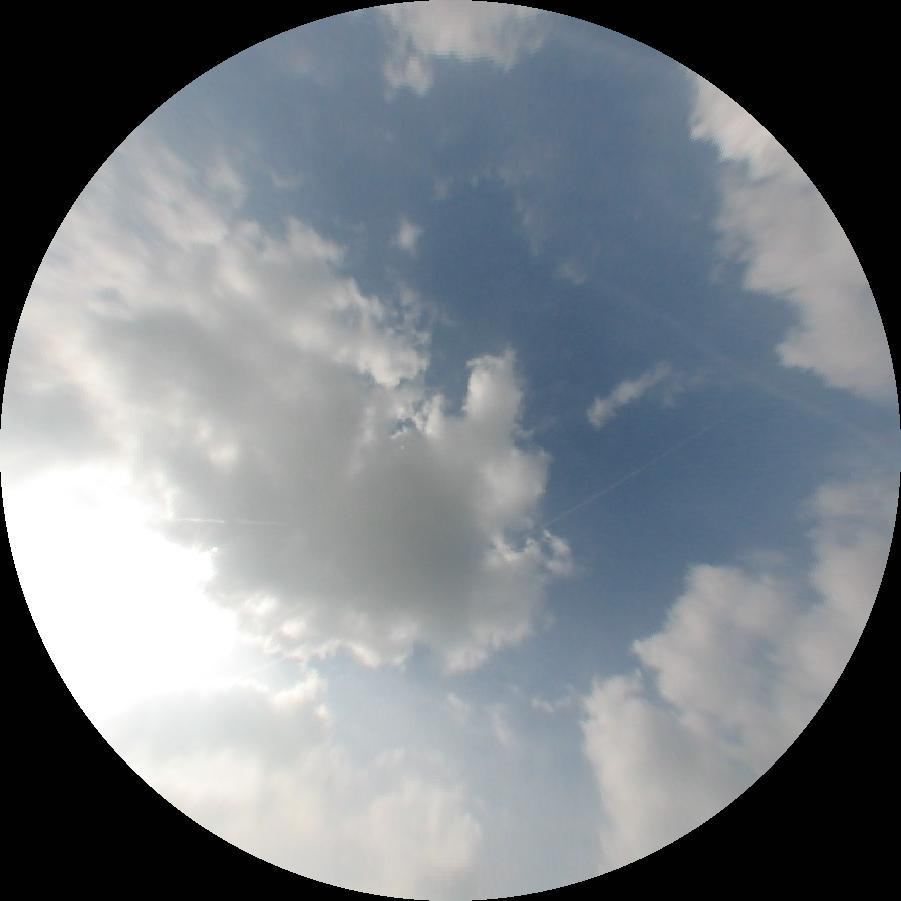contrail young: (513, 392, 763, 546)
parasite: (171, 518, 293, 526)
sun: (0, 410, 257, 744)
